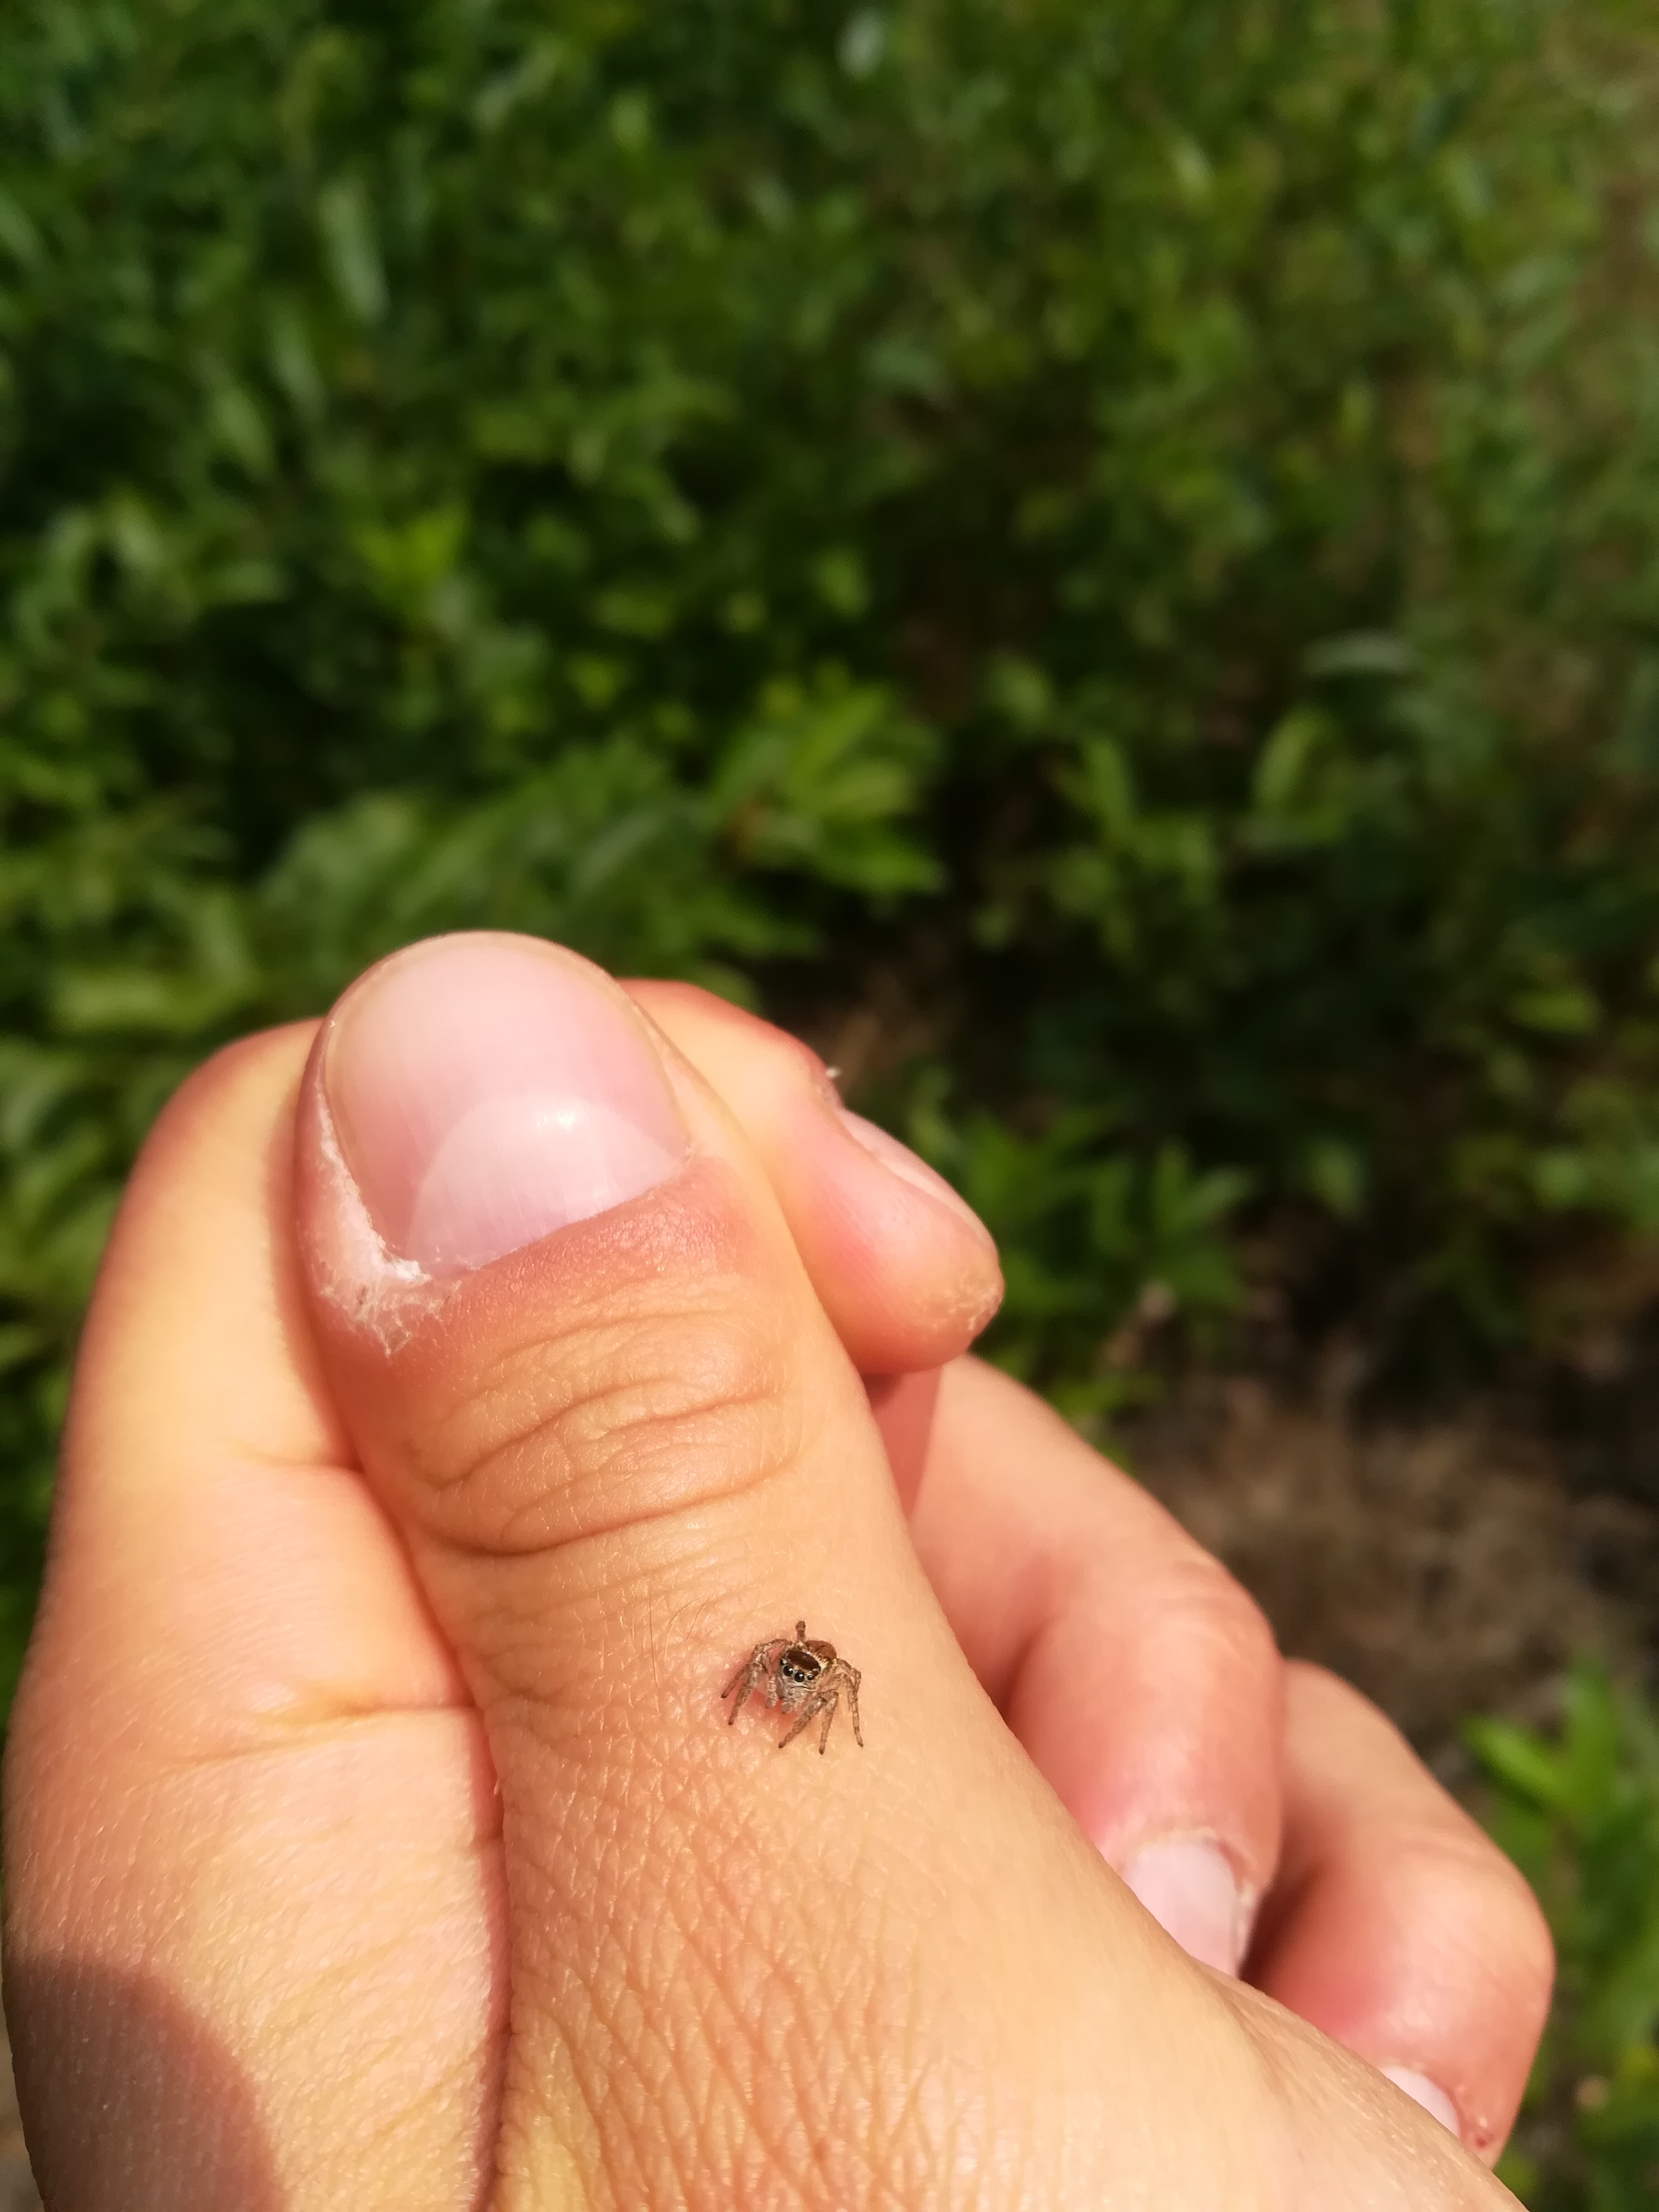spider: (706, 1601, 899, 1787)
